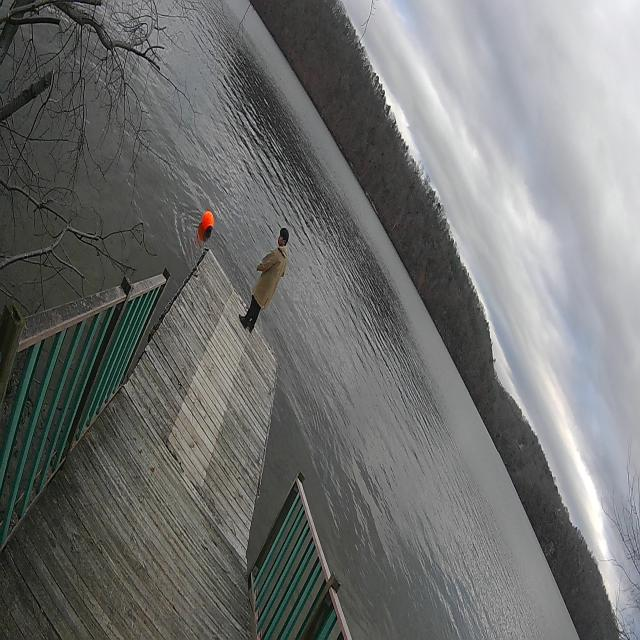Buoy: (200, 206, 217, 238)
